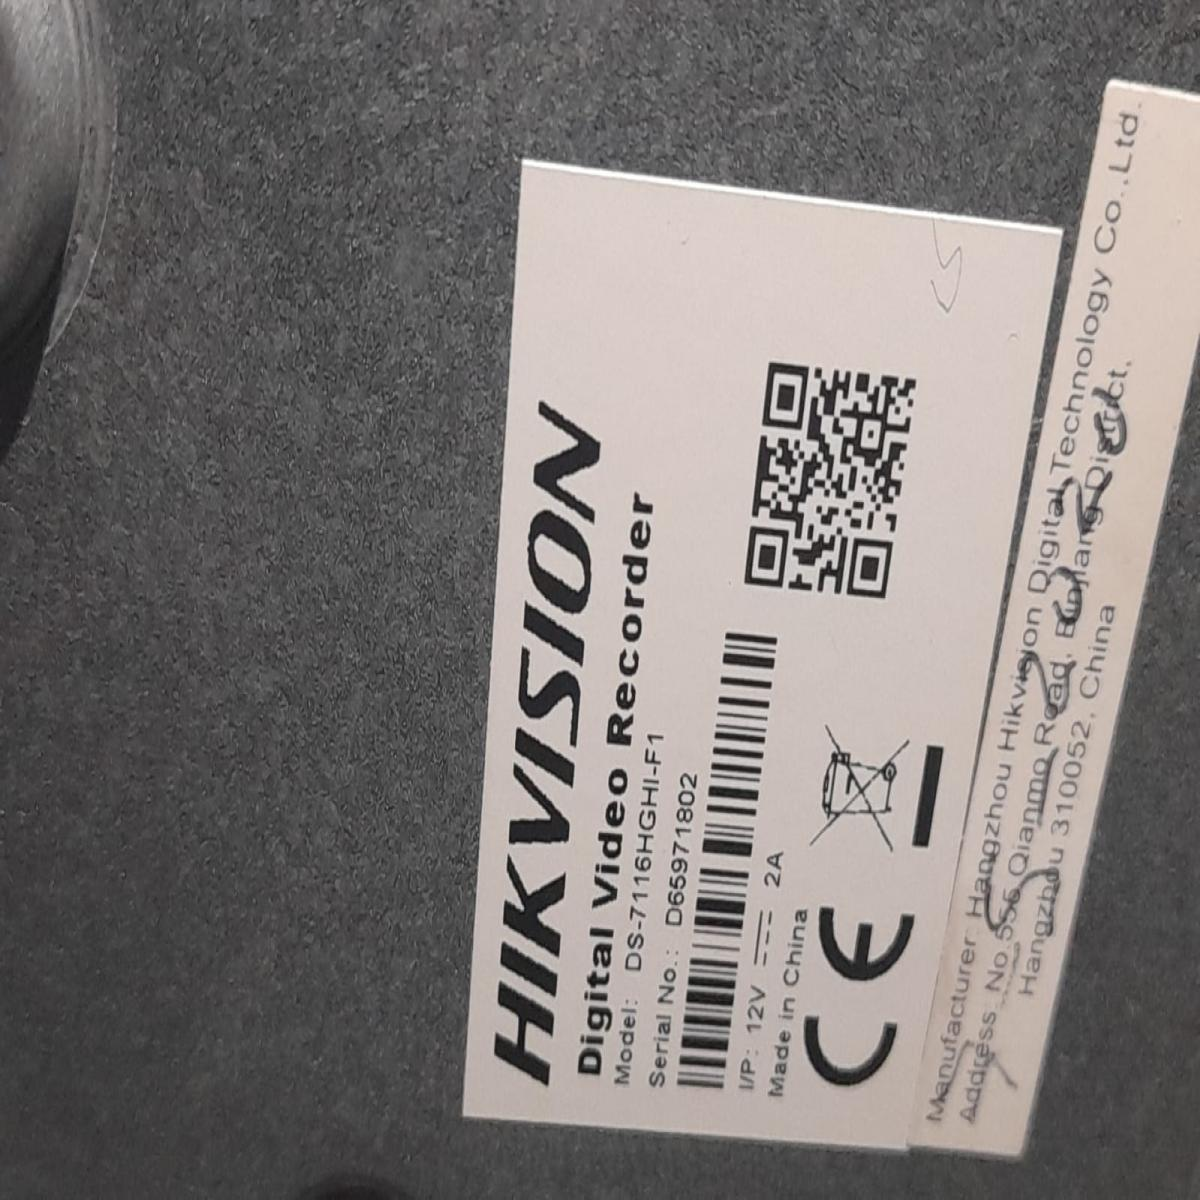Barcode: (667, 611, 789, 1110)
Label: (465, 167, 1063, 1146)
